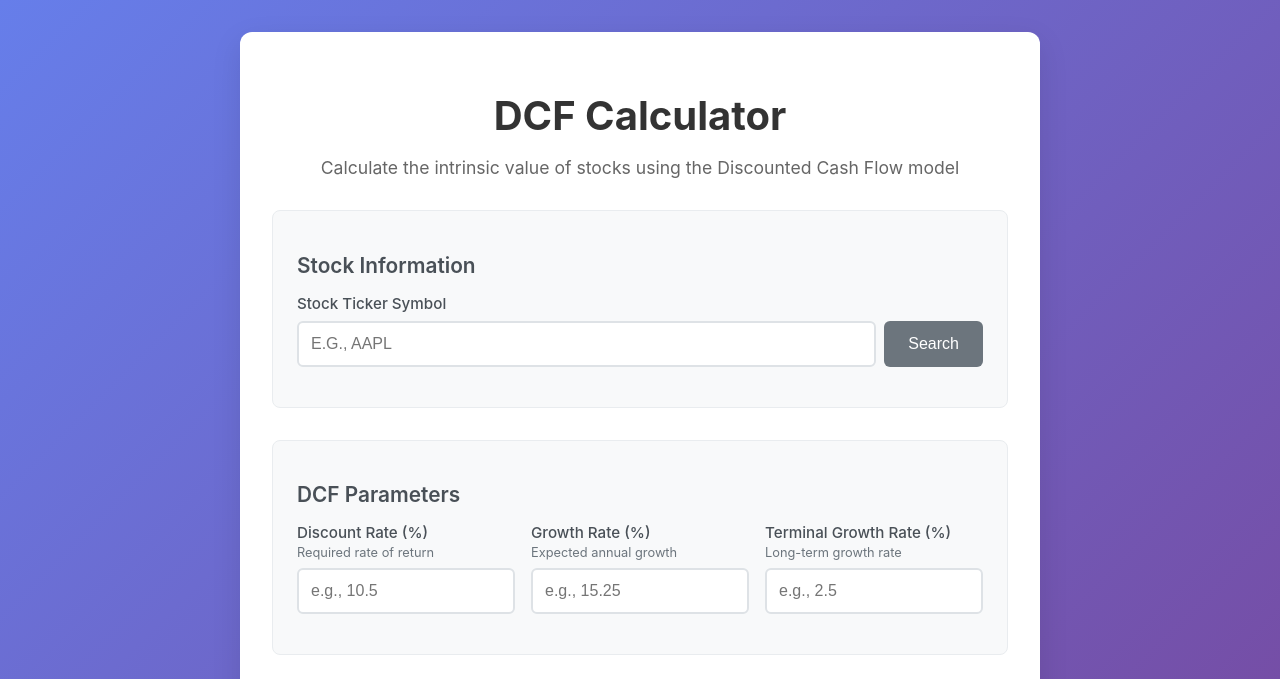
Test: DCFCalculator › Form Validation › shows error when ticker format is invalid
Step 1. Type "AAPL" into the field labelled "Stock Ticker Symbol" → (587, 344), box [297,321,876,367]
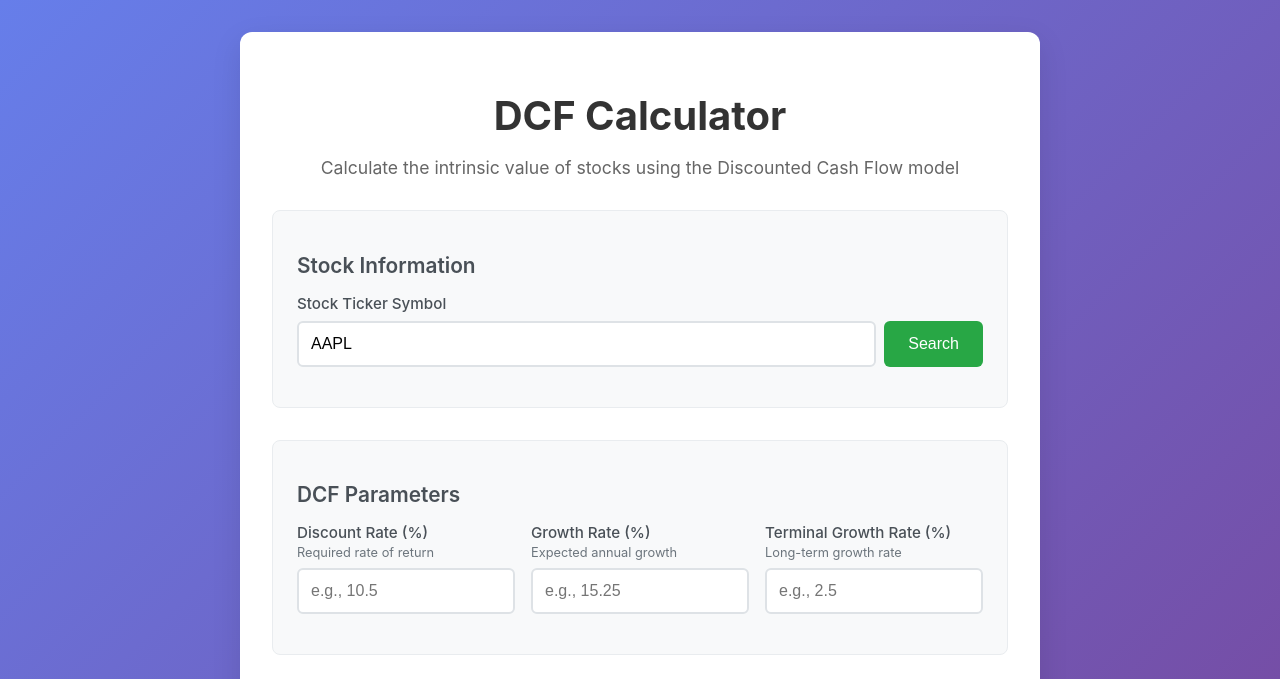
Step 2. Click the button "Search" → (934, 344), box [884,321,983,367]
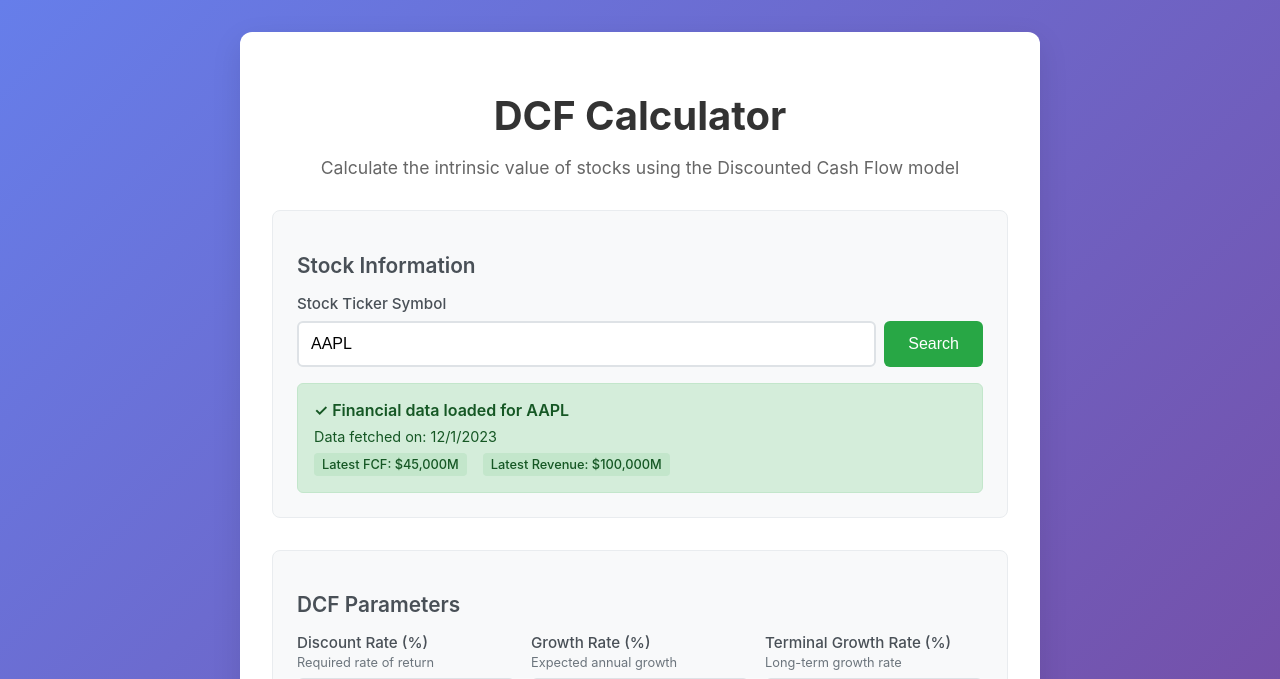
Result: the heading "✓ Financial data loaded for AAPL" is shown at [314,400,569,420]
// Change to invalid ticker format
Step 3. Replace the text in the field labelled "Stock Ticker Symbol" with "123" → (587, 344), box [297,321,876,367]
(page scrolled)
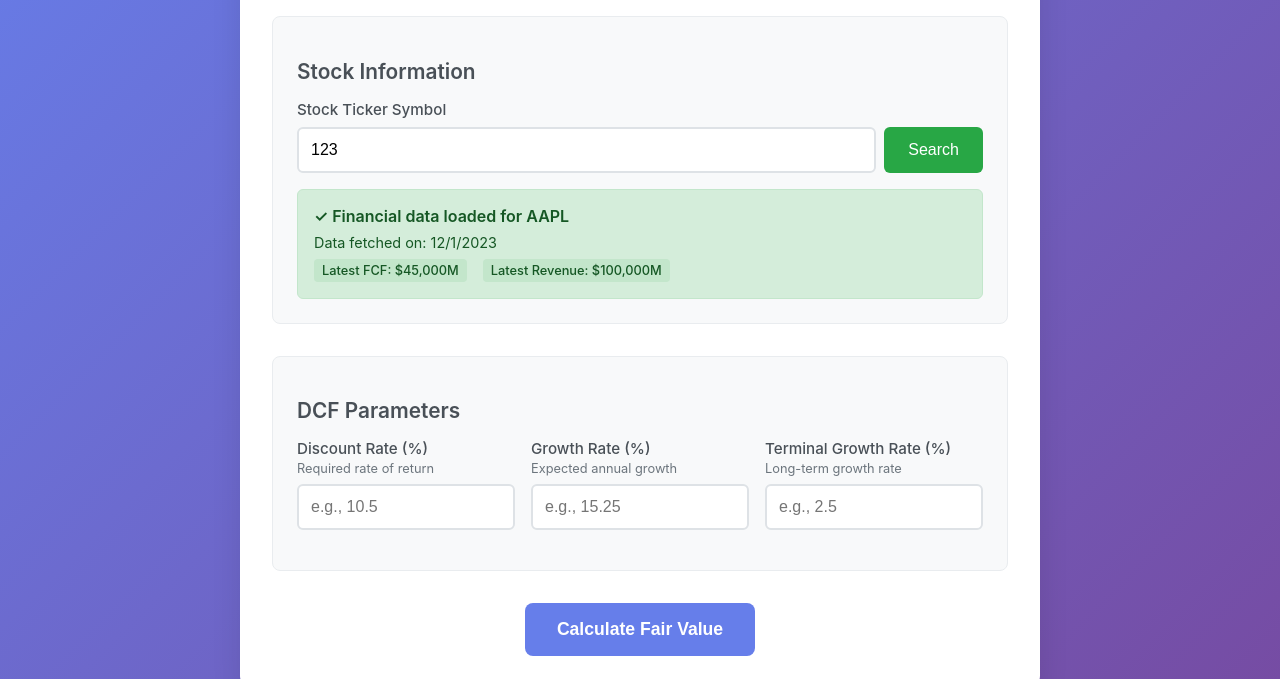
Step 4. Click the button "Calculate Fair Value" → (640, 630), box [525,603,755,656]
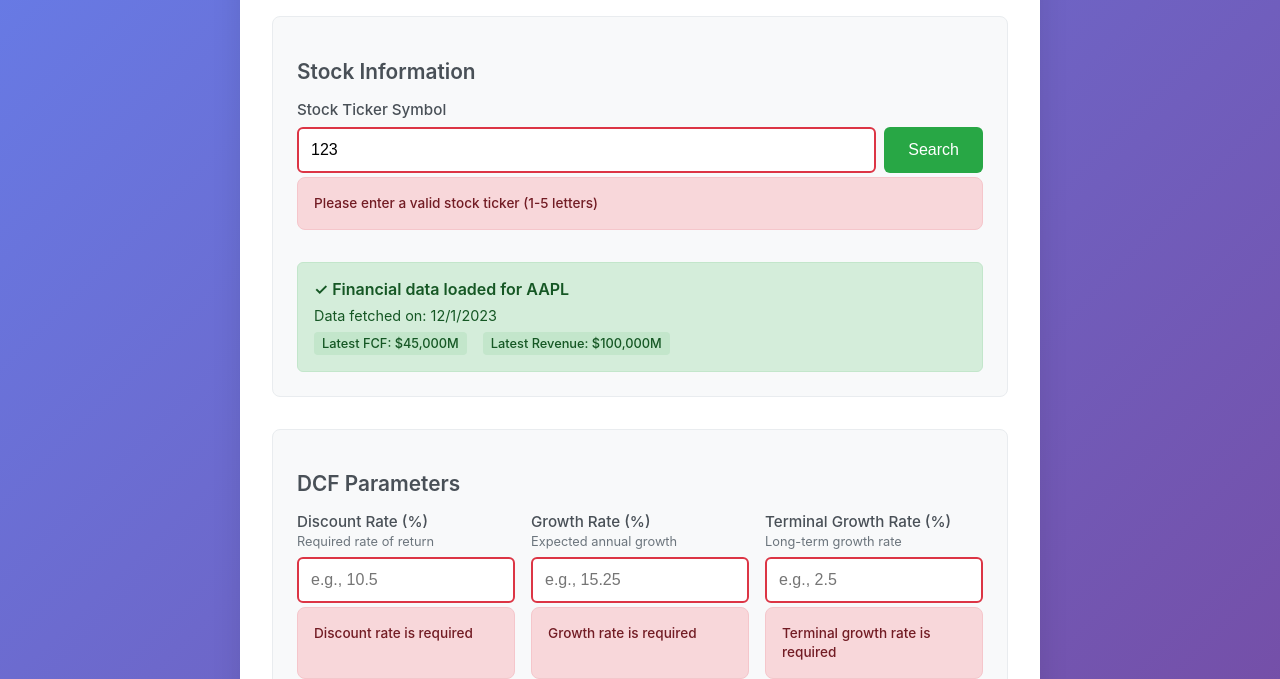
Result: the text "Please enter a valid stock ticker (1-5 letters)" is shown at [297,177,983,230]
